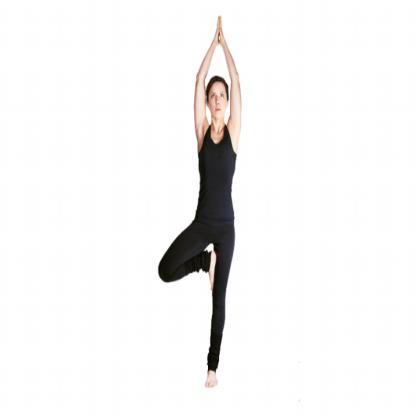tree: (154, 8, 261, 396)
